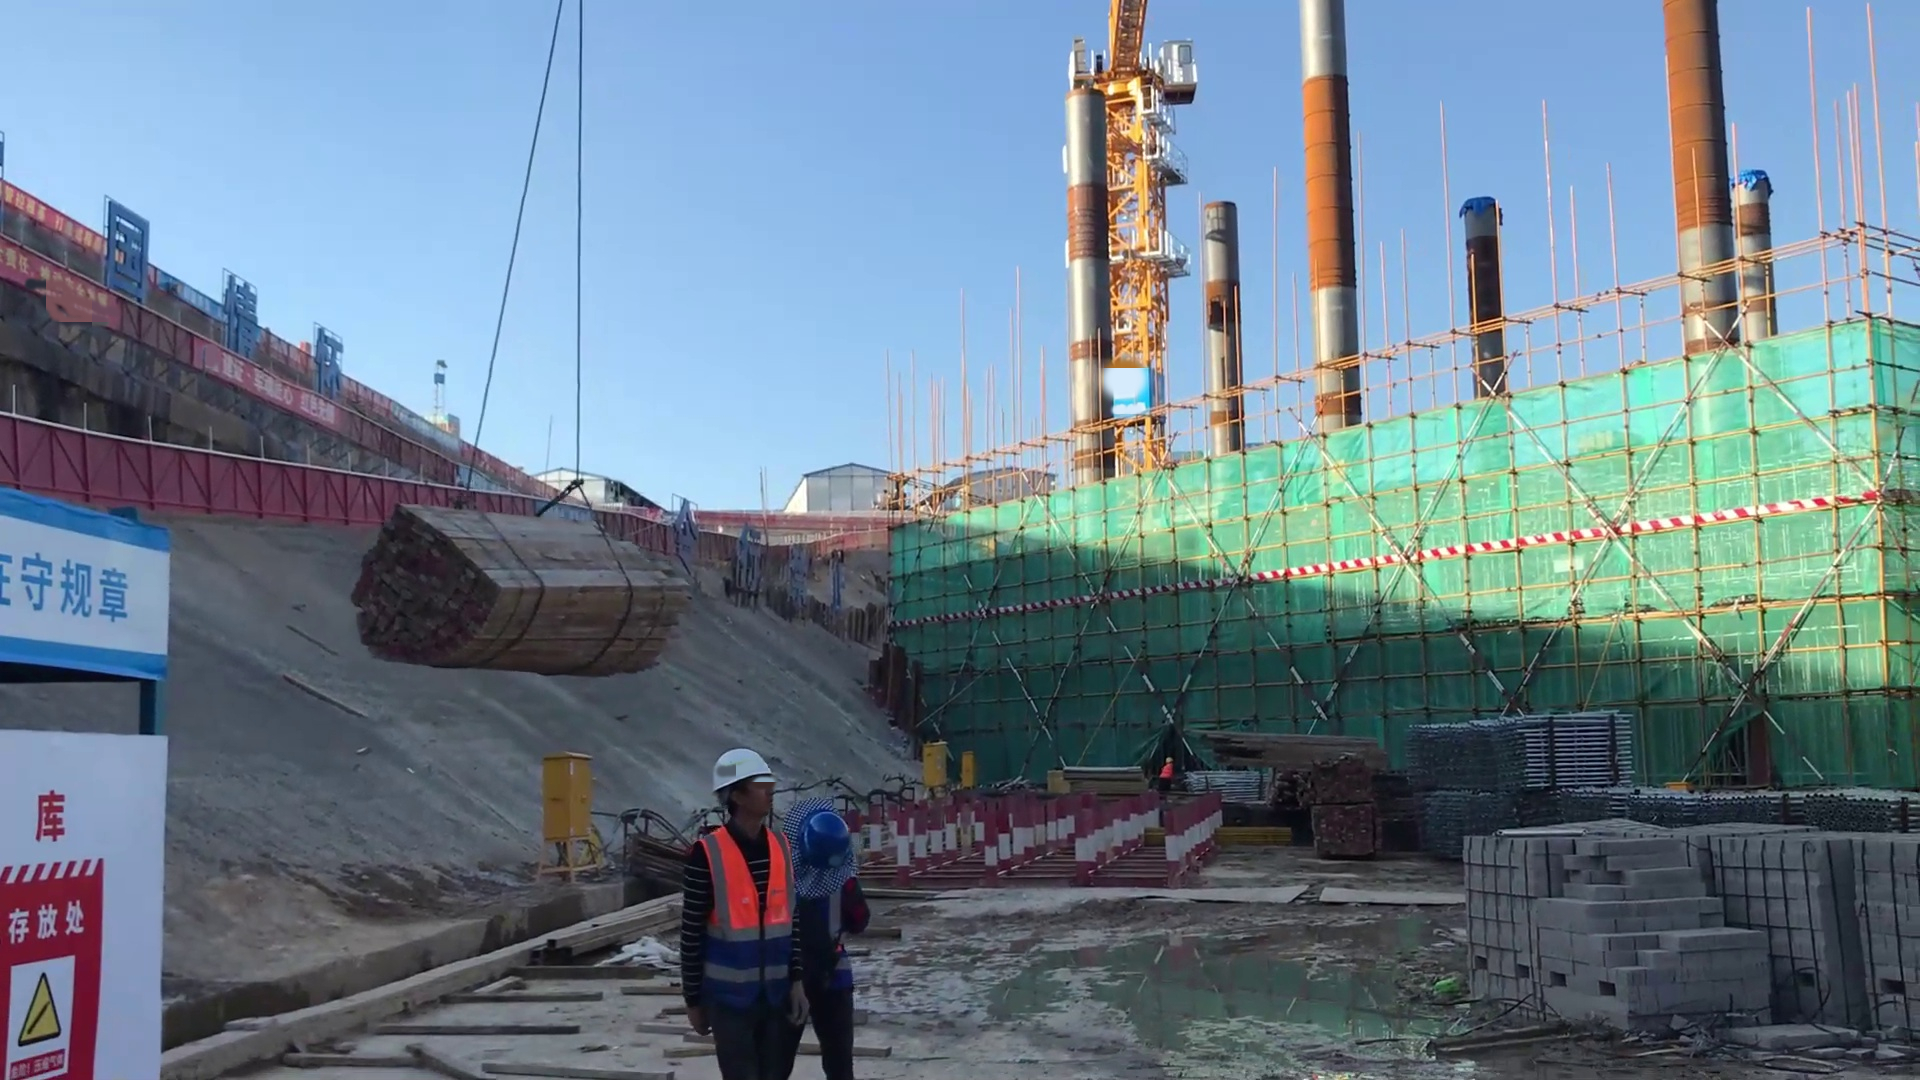brick: (1448, 813, 1920, 1041)
ebox: (530, 734, 607, 895), (920, 725, 953, 821), (960, 742, 980, 806)
fence: (5, 405, 347, 539), (354, 476, 770, 569)
helmet: (795, 811, 862, 869), (708, 741, 783, 787), (1165, 756, 1174, 765)
person: (673, 746, 810, 1076), (796, 811, 873, 1075), (1156, 754, 1176, 795)
scaffold: (1417, 790, 1801, 867), (1404, 713, 1634, 791)
slogan: (1, 744, 187, 1080), (1, 502, 187, 670), (193, 341, 351, 446), (1, 238, 120, 344), (6, 174, 106, 263)
vest: (694, 822, 795, 1015), (795, 874, 861, 997), (1161, 762, 1174, 778)
wood: (350, 495, 670, 688), (1195, 724, 1398, 778), (1309, 794, 1386, 867), (1286, 757, 1385, 803), (1046, 759, 1146, 796)
